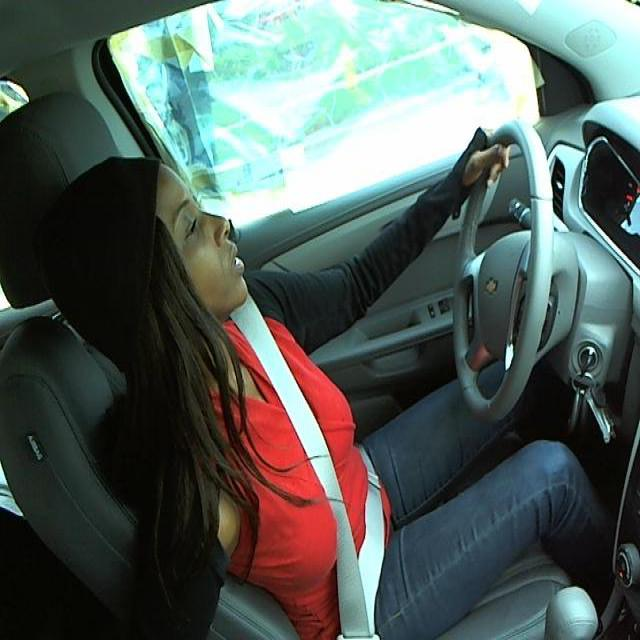seatbelt: (237, 328, 397, 623)
